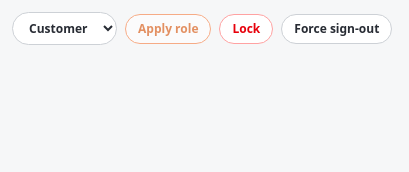
Test: AdminUserActions › disables the apply button while the selection matches the current role
Expected: the button "Apply role" is disabled, [125,14,212,44]
Select "Admin" in the dropdown named "Role" at (64, 28), box [12,12,117,45]
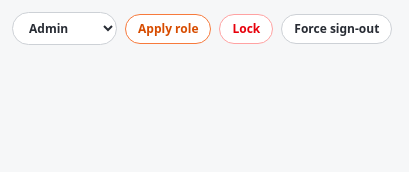
Expected: the button "Apply role" is enabled, [125,14,212,44]
